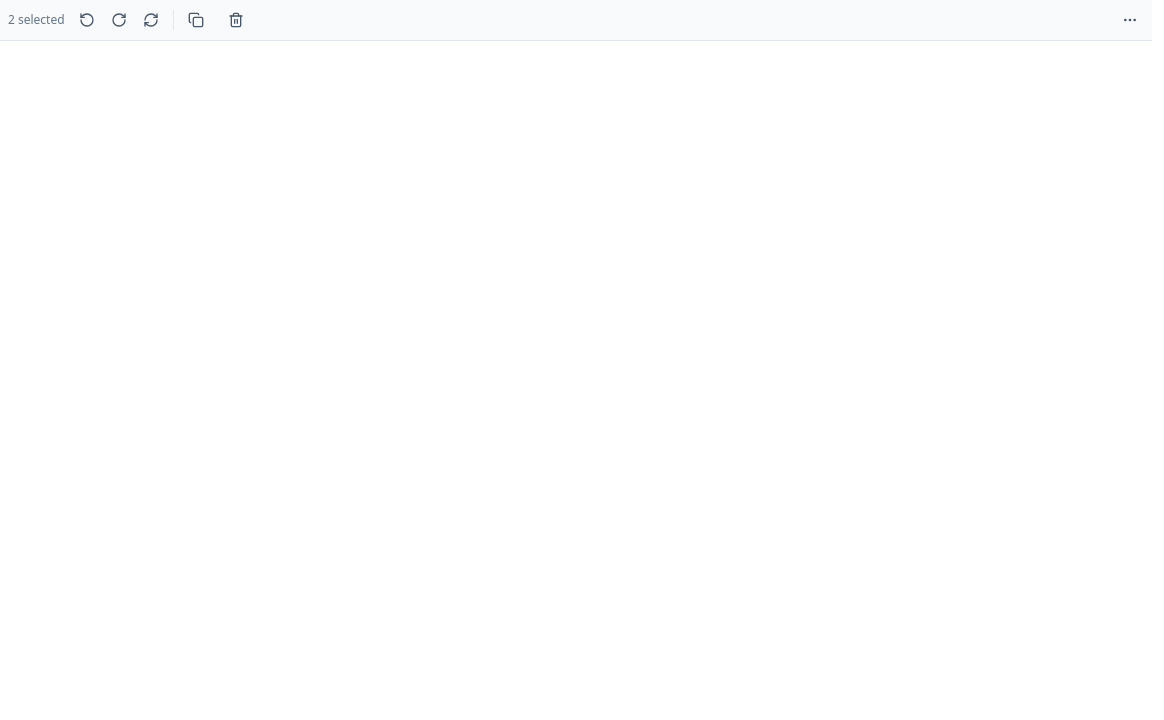
Scenario: PagesToolbar Überlauf (§5, echtes Bauteil) › ⋯-Menü: ausgezogene Befehle vorhanden, Zerstörerisches nach Separator, Klick führt echten Endpunkt aus
The image size is (1164, 720).
Click the button with test id "pages-more" at [1130, 20], box [1116, 6, 1144, 34]
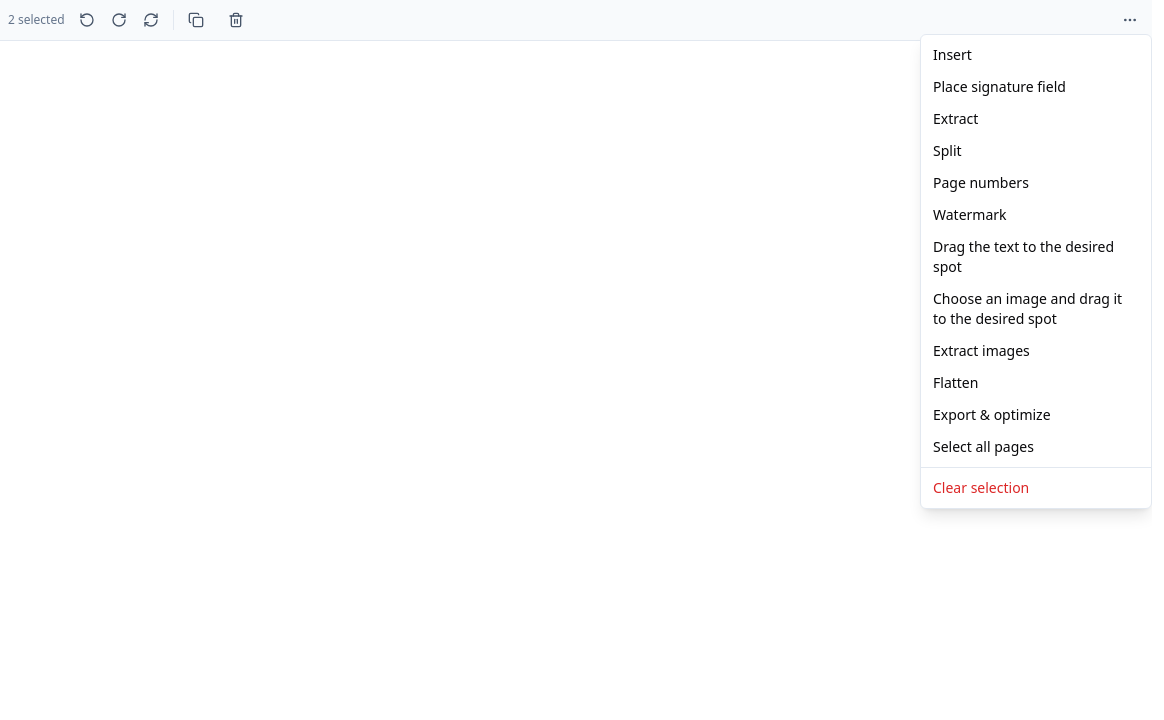
Result: the menu with test id "context-menu" is shown at [920, 34, 1152, 509]
Click the menu item with test id "ctx-pg-flatten" at [1036, 383], box [921, 367, 1151, 399]
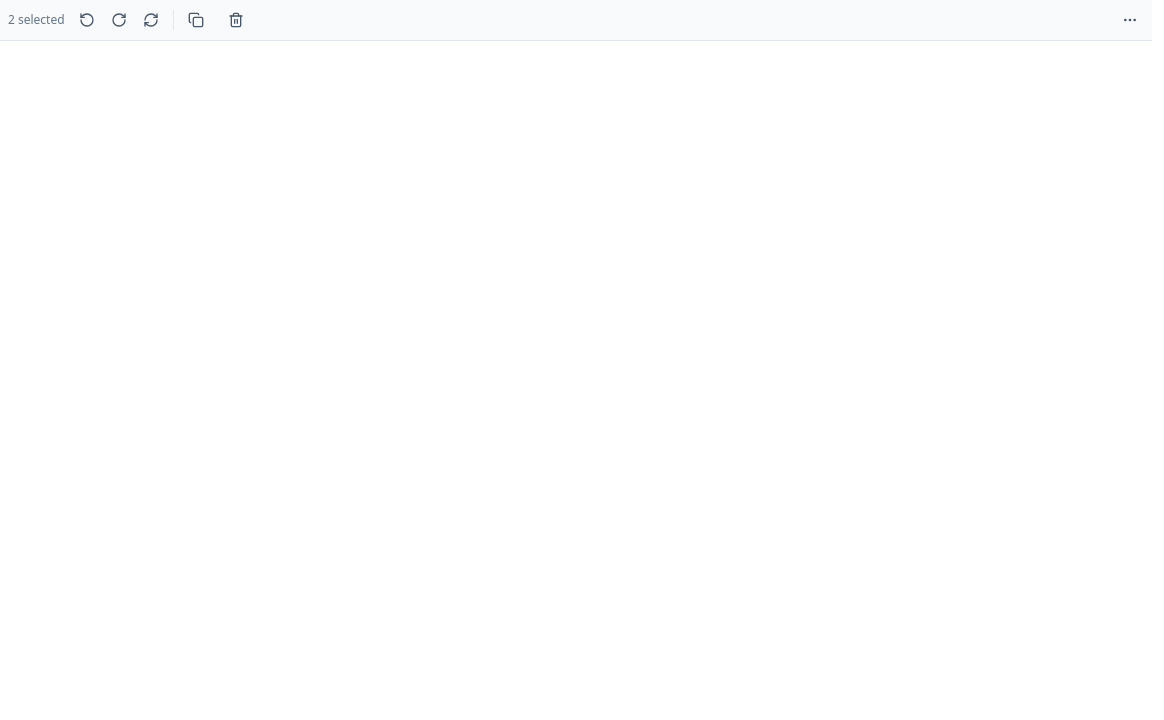
Result: the menu with test id "context-menu" is gone
